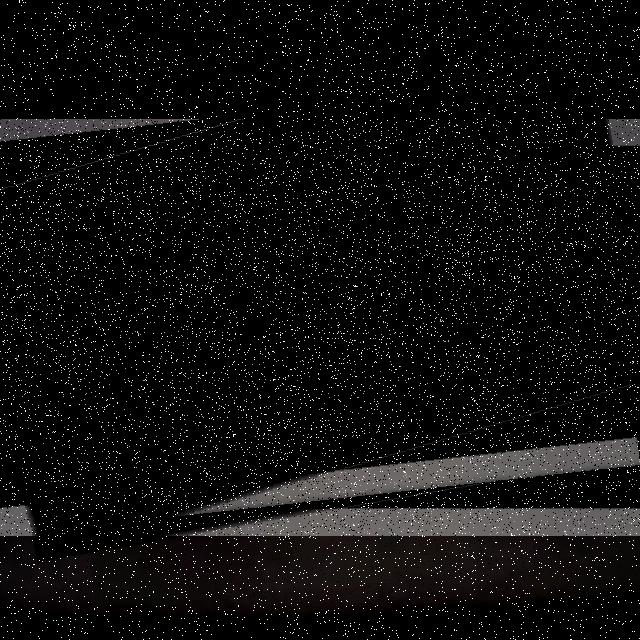dua puluh ribu rupiah: (0, 119, 640, 536)
